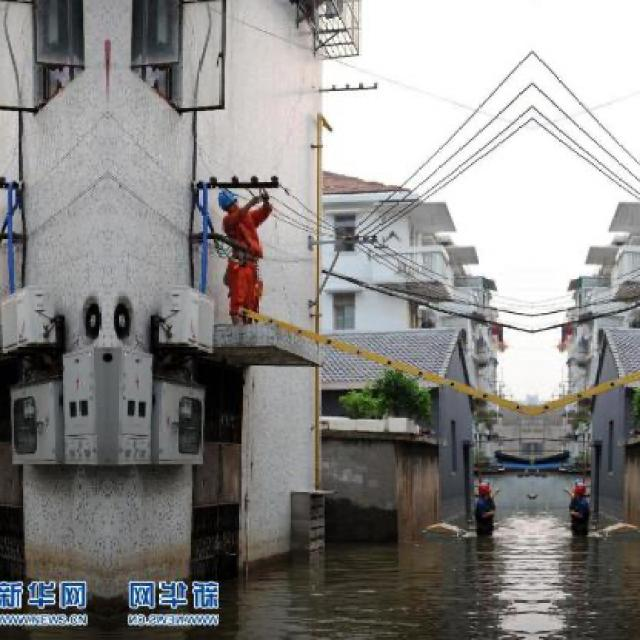helmet: (219, 188, 246, 218), (572, 480, 591, 498), (477, 480, 495, 498)
